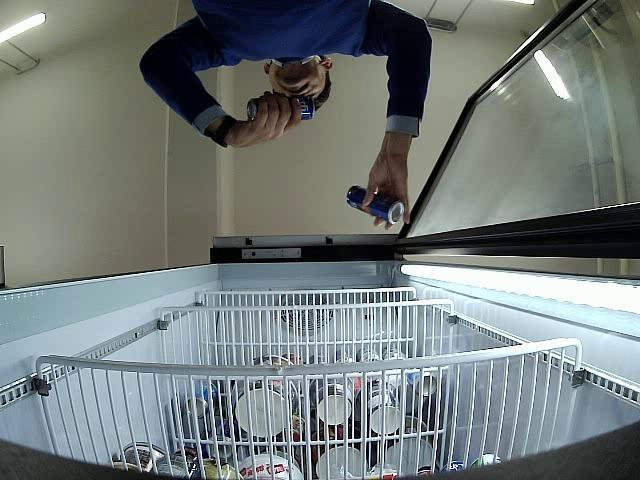16_hot6: (347, 184, 404, 224), (246, 97, 314, 120)
